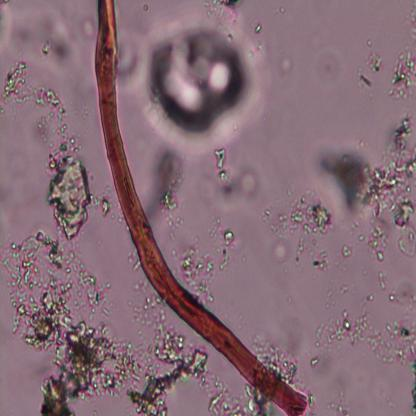Background material: (0, 231, 135, 416), (136, 23, 270, 154), (315, 110, 416, 260), (305, 303, 416, 372), (0, 47, 72, 141), (134, 321, 203, 416), (264, 181, 331, 273), (0, 0, 79, 77), (36, 139, 93, 238), (242, 320, 297, 382), (174, 233, 218, 306), (203, 370, 270, 416), (149, 149, 179, 224), (111, 28, 149, 82), (204, 204, 234, 266), (387, 44, 416, 106), (127, 289, 166, 330), (310, 44, 342, 90), (207, 145, 233, 199), (354, 45, 382, 89), (198, 0, 246, 22), (324, 379, 349, 416), (389, 275, 416, 306), (240, 167, 262, 195), (97, 191, 116, 220), (81, 13, 98, 39), (278, 50, 294, 75), (410, 364, 416, 416), (325, 286, 337, 307), (378, 266, 387, 291), (364, 292, 378, 303), (340, 282, 348, 298), (253, 22, 263, 34), (142, 1, 150, 13)
Microfibre: (93, 0, 310, 416)
